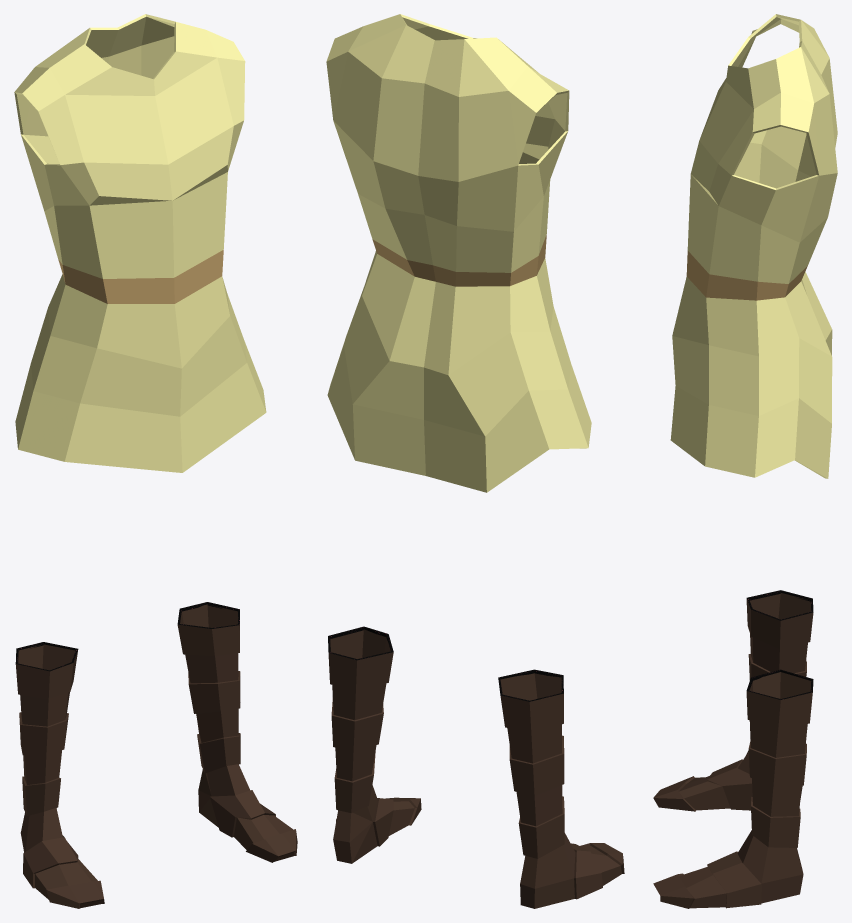
The model's file is M Normal Citizen.fbx.
3 views of the same model, side by side, from view 1: azimuth 30°, elevation 25°; view 2: azimuth 150°, elevation 25°; view 3: azimuth 270°, elevation 25° (orthographic). The views are drawn at different scales.
Visible parts, largest first — view 1: M Normal Citizen; view 2: M Normal Citizen; view 3: M Normal Citizen.
Part boxes in pixels (x1,y1,x2,y2): M Normal Citizen: (14, 14, 297, 908); M Normal Citizen: (326, 14, 624, 908); M Normal Citizen: (653, 14, 837, 908).
Bounding box in the file's own units: 97.22 × 302 × 61.92.
